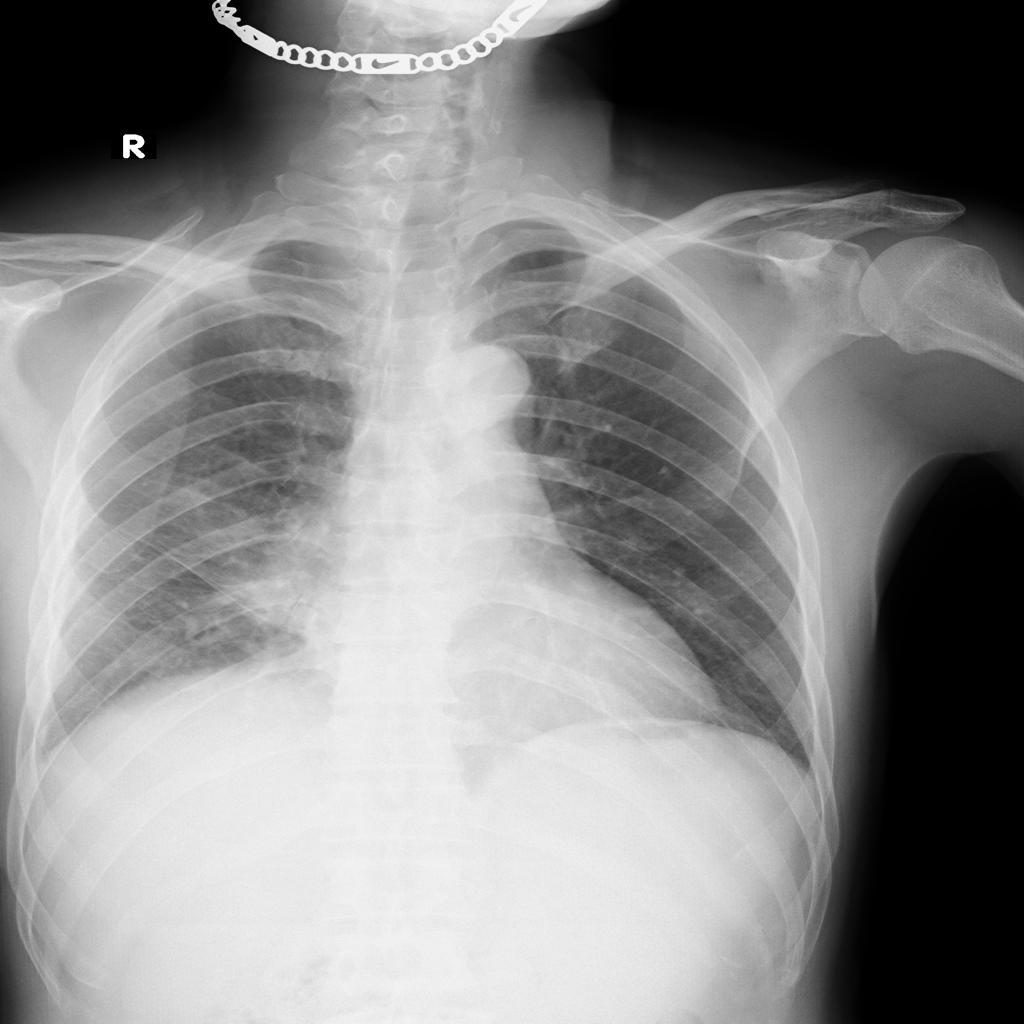Nodule: (230, 515, 323, 637)
